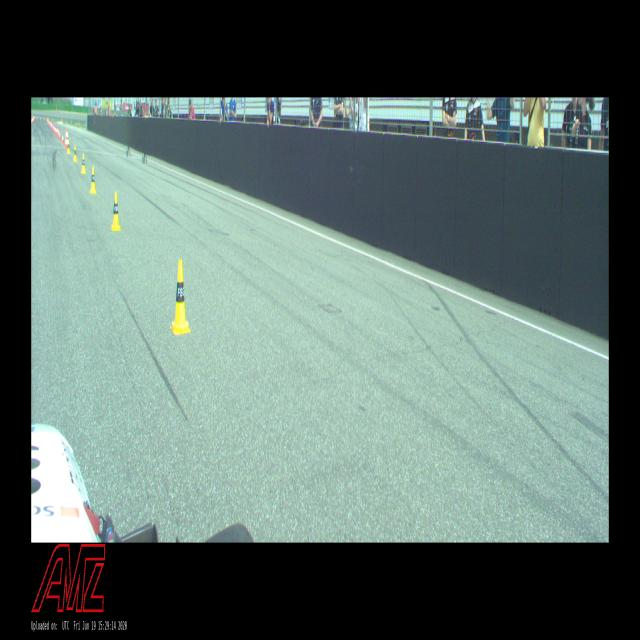large_orange_cone: (66, 130, 68, 148), (65, 129, 67, 147)
orange_cone: (62, 134, 64, 144)
yellow_cone: (170, 260, 190, 334), (111, 192, 120, 230), (90, 167, 96, 193), (81, 153, 86, 173), (73, 145, 77, 161), (67, 140, 70, 154)
